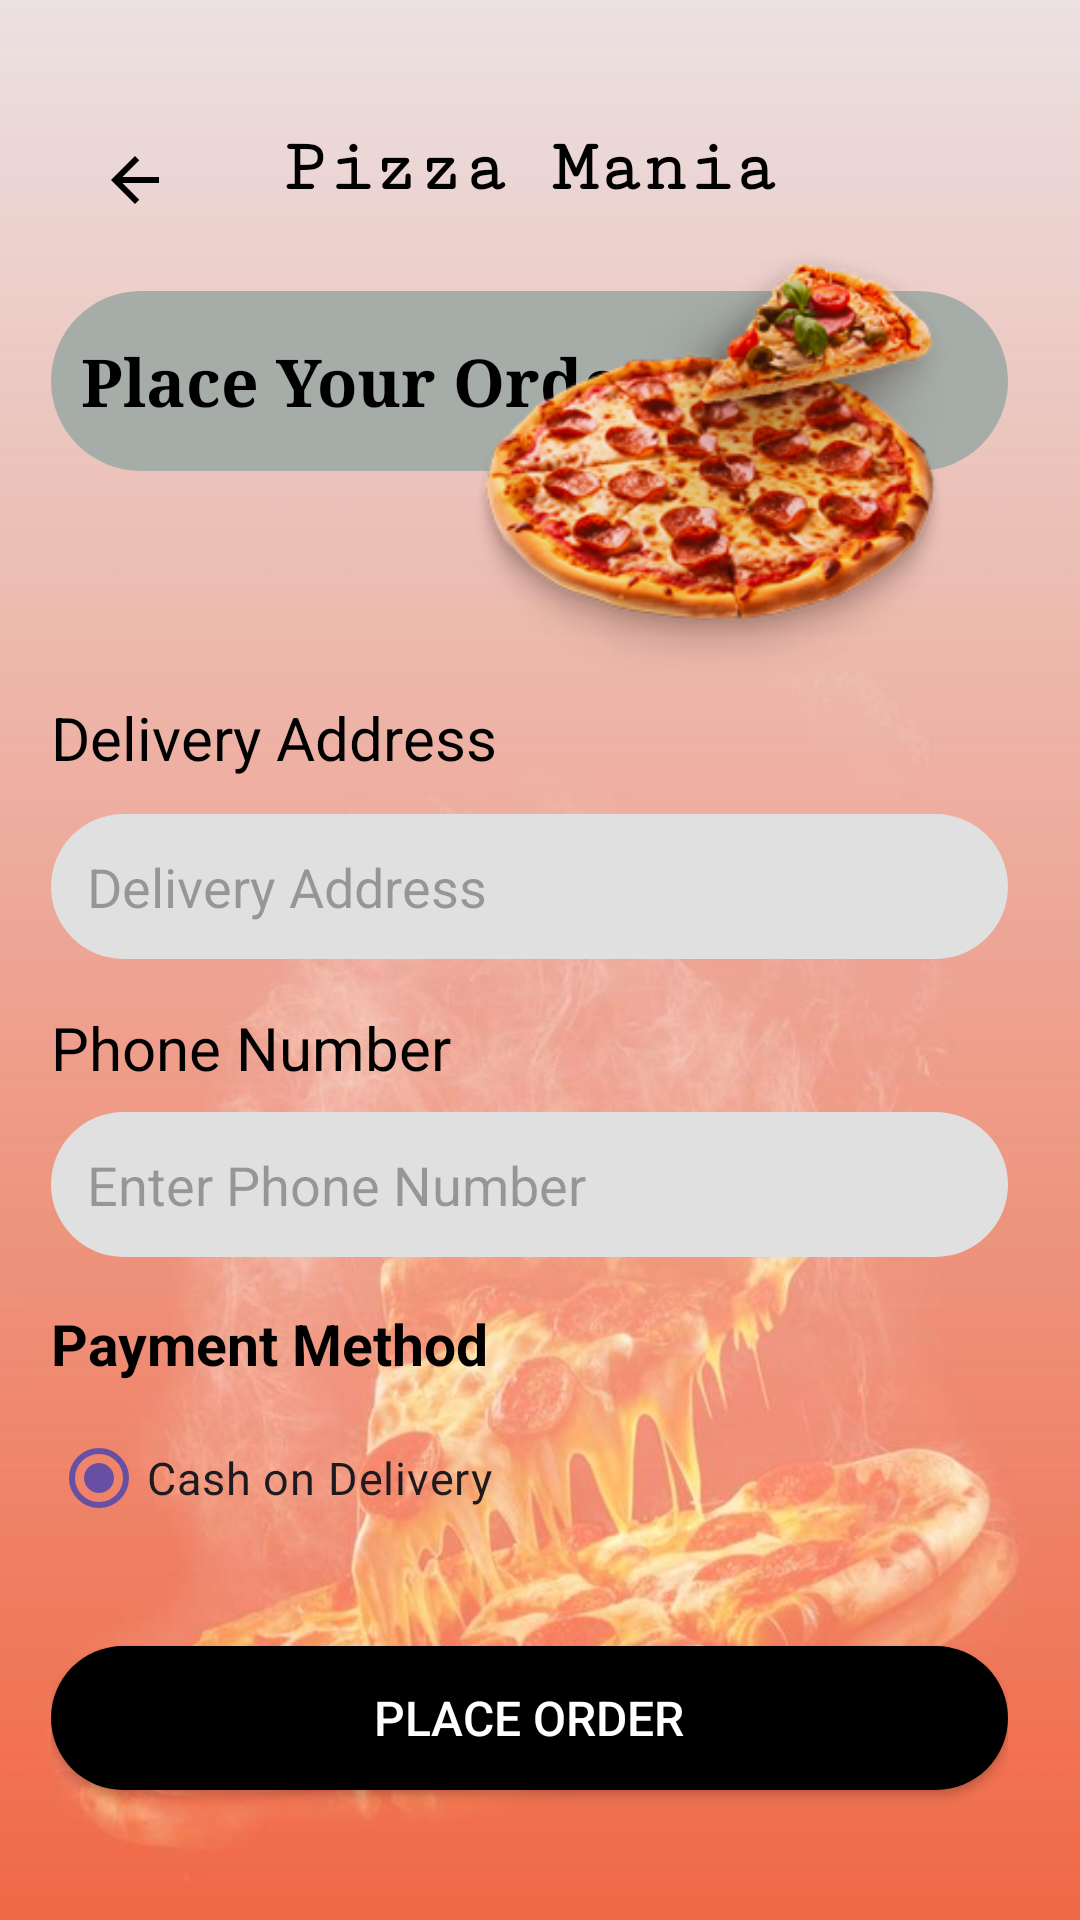

Named icons in this screenshot (1080*1920) and their bounding boxes, bbox=(x1, y1, x2, y2):
Back: bbox=(111, 156, 159, 204)
